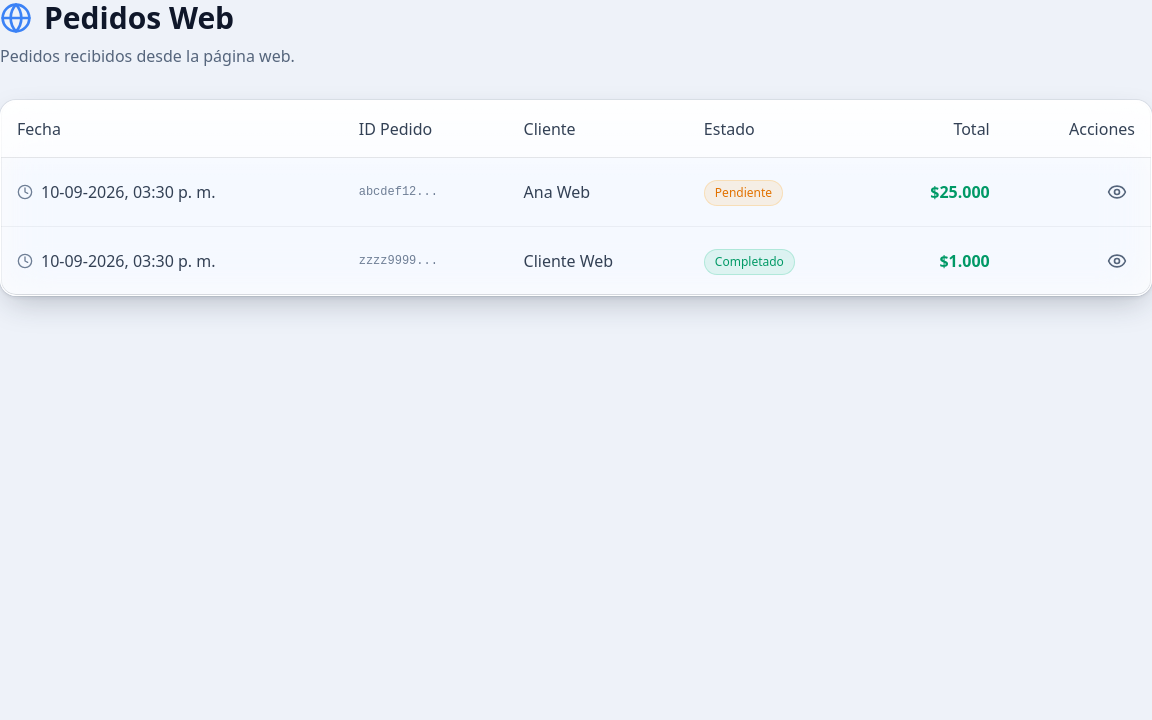
Test: Pedidos web › abre el detalle con datos del cliente y productos
This screenshot has width=1152, height=720.
Click the button titled "Ver Detalle" in the row of "abcdef12" at {"x": 1117, "y": 192}, box [1099,174,1135,210]
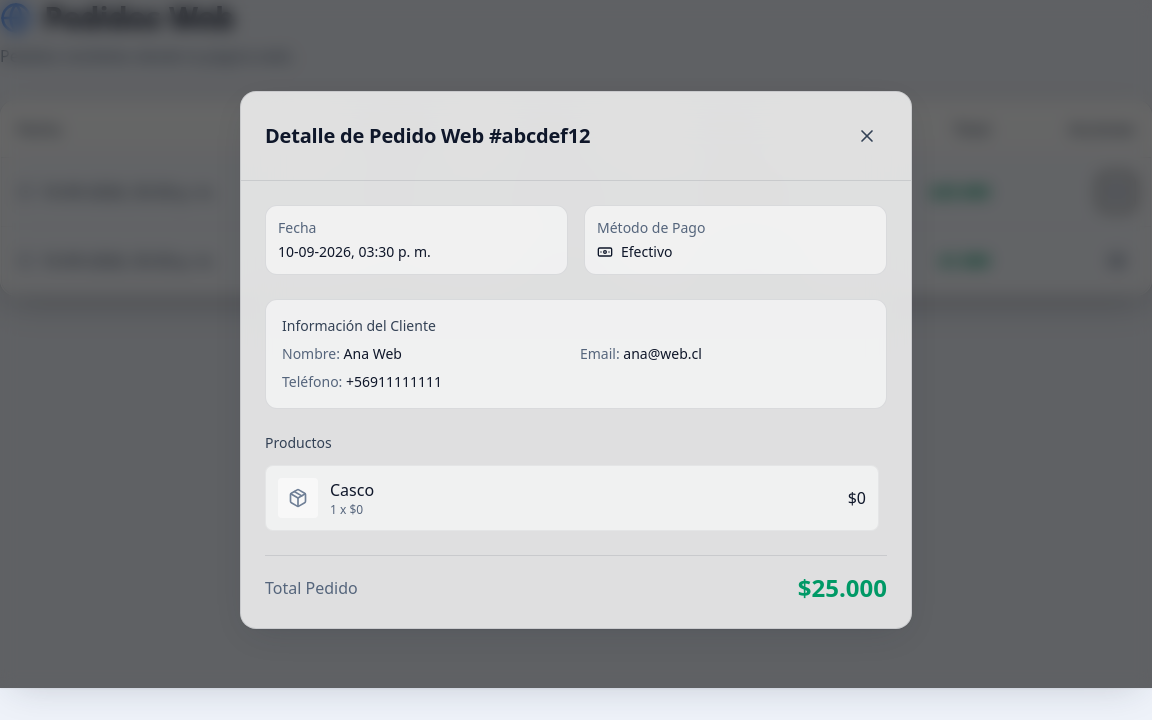
Expected: the heading "Detalle de Pedido Web #abcdef12" is shown, [265,122,590,150]
Expected: the text "ana@web.cl" is shown, [623,344,702,363]
Expected: the text "Casco" is shown, [330,478,374,502]
